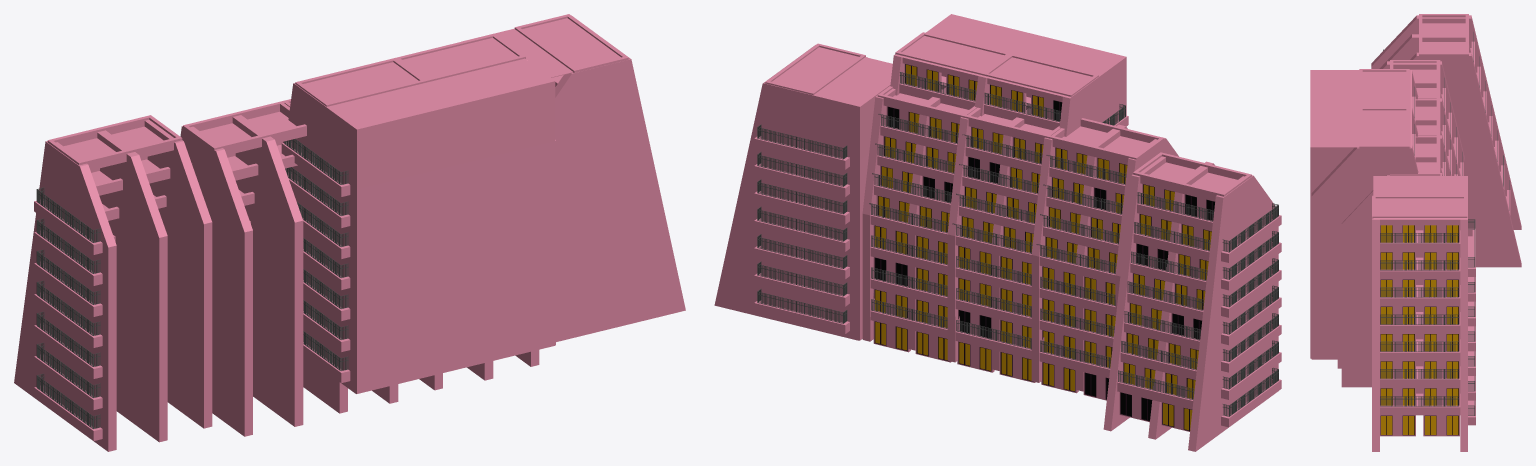
The model's file is sundaiichigayaheits3.fbx.
3 views of the same model, side by side, from view 1: azimuth 30°, elevation 25°; view 2: azimuth 150°, elevation 25°; view 3: azimuth 270°, elevation 25° (orthographic). The views are drawn at different scales.
Visible parts, largest first — view 1: 立方体.020, 立方体.021, 立方体.024; view 2: 立方体.020, 立方体.021, 立方体.024; view 3: 立方体.020, 立方体.024, 立方体.021.
Boxes of the visible parts, bbox=[...] form: 立方体.020: bbox=[180, 33, 555, 436]; 立方体.021: bbox=[14, 115, 212, 451]; 立方体.024: bbox=[463, 14, 685, 341]; 立方体.020: bbox=[862, 14, 1178, 400]; 立方体.021: bbox=[1103, 152, 1281, 451]; 立方体.024: bbox=[714, 43, 892, 340]; 立方体.020: bbox=[1310, 60, 1464, 387]; 立方体.024: bbox=[1372, 176, 1475, 451]; 立方体.021: bbox=[1371, 14, 1521, 267].
Bounding box in the file's own units: 2151 × 1068 × 841.
